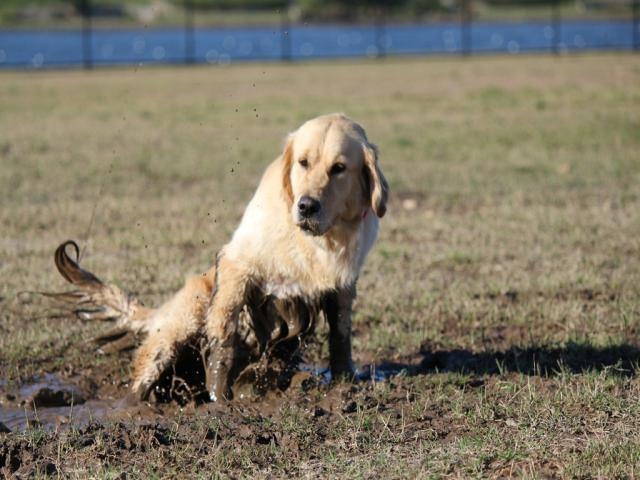Dog: (29, 112, 390, 406)
